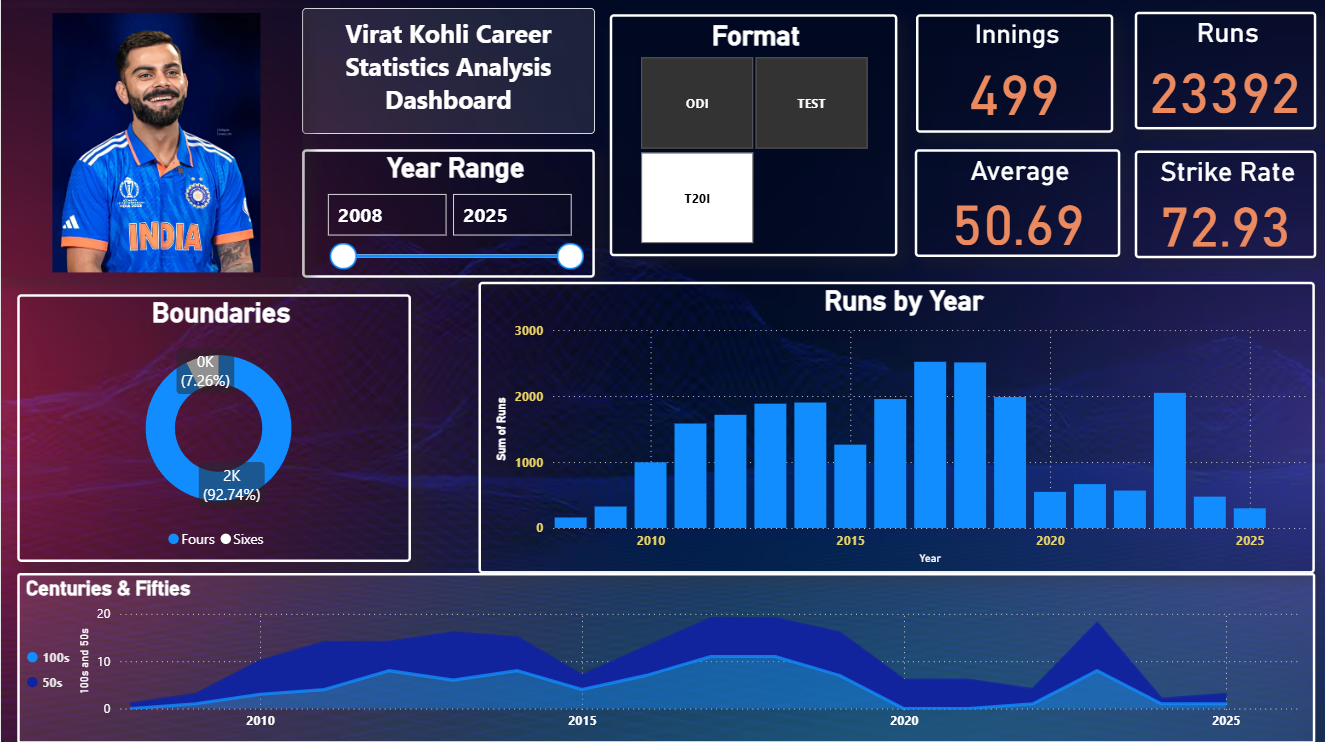

This screenshot's page, from the dashboard's own definition file:
{"tool":"powerbi","page":{"name":"Page 1","canvas":[1280,720],"ordinal":0},"visuals":[{"type":"textbox","box":[291.2,10,282.5,121.2],"z":0},{"type":"card","title":"Innings","fields":{"Values":["Sum(Sheet2.Innings)"]},"box":[883.1,15.7,190.6,114.6],"z":1000},{"type":"card","title":"Runs","fields":{"Values":["Sum(Sheet2.Runs)"]},"box":[1093.8,13.8,175,113.8],"z":2000},{"type":"card","title":"Average","fields":{"Values":["Avg(Sheet2.Avg)"]},"box":[882.5,146.2,198.8,103.8],"z":3000},{"type":"card","title":"Strike Rate","fields":{"Values":["Avg(Sheet2.SR)"]},"box":[1093.8,147.5,175,103.8],"z":4000},{"type":"slicer","title":"Format","fields":{"Values":["Sheet2.Format"]},"box":[587.5,16.2,277.5,233.8],"z":5000},{"type":"slicer","title":"Year Range","fields":{"Values":["Sheet2.Year "]},"box":[291.2,146.2,282.5,123.8],"z":6000},{"type":"clusteredColumnChart","title":"Runs by Year ","fields":{"Category":["Sheet2.Year "],"Y":["Sum(Sheet2.Runs)"]},"box":[461.2,273.8,807.5,281.2],"z":7000},{"type":"donutChart","title":"Boundaries","fields":{"Y":["Sum(Sheet2.4s)","Sum(Sheet2.6s)"]},"box":[16.2,286.2,380,258.8],"z":8000},{"type":"stackedAreaChart","title":"Centuries & Fifties","fields":{"Y":["Sum(Sheet2.100)","Sum(Sheet2.50)"],"Category":["Sheet2.Year "]},"box":[16.2,555,1252.5,165],"z":9000},{"type":"image","box":[0,10,291.2,260],"z":10000}]}

Visuals, with their boxes in screenshot pixels (x1, y1, x2, y2), scaled from the page's 1280x720 canvas onto the 1325x742 screenshot:
textbox: region(301, 10, 594, 135)
"Innings" card: region(914, 16, 1111, 134)
"Runs" card: region(1132, 14, 1313, 131)
"Average" card: region(914, 151, 1119, 258)
"Strike Rate" card: region(1132, 152, 1313, 259)
"Format" slicer: region(608, 17, 895, 258)
"Year Range" slicer: region(301, 151, 594, 278)
"Runs by Year " clusteredColumnChart: region(477, 282, 1313, 572)
"Boundaries" donutChart: region(17, 295, 410, 562)
"Centuries & Fifties" stackedAreaChart: region(17, 572, 1313, 741)
image: region(0, 10, 301, 278)
